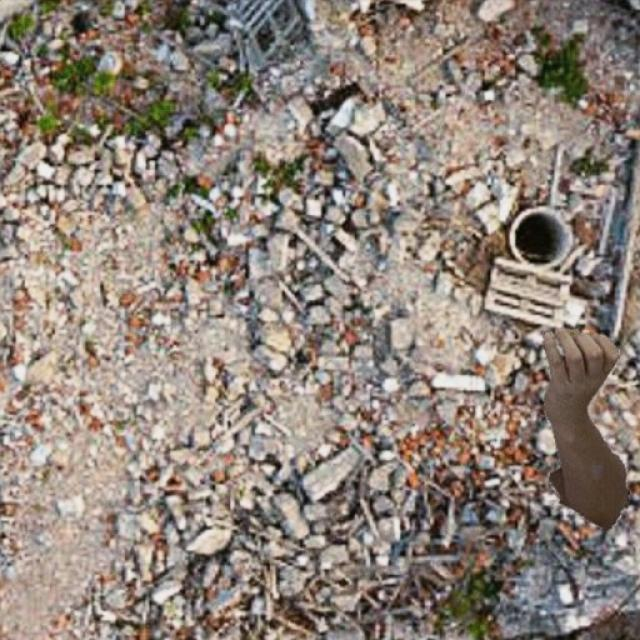Person in Rubble: (542, 328, 628, 528)
